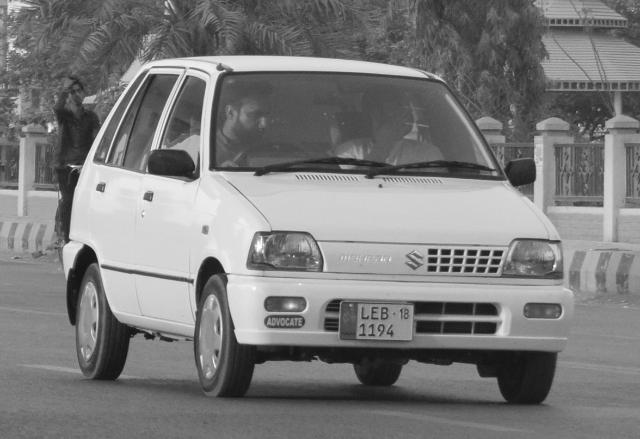Number: (354, 304, 394, 338)
